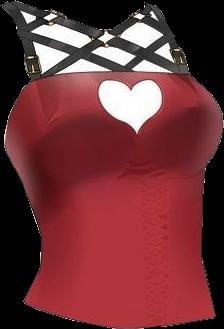Bodice: (1, 1, 222, 327)
Neckline: (14, 0, 148, 29), (27, 69, 190, 82)
Waistline: (21, 300, 217, 328)
